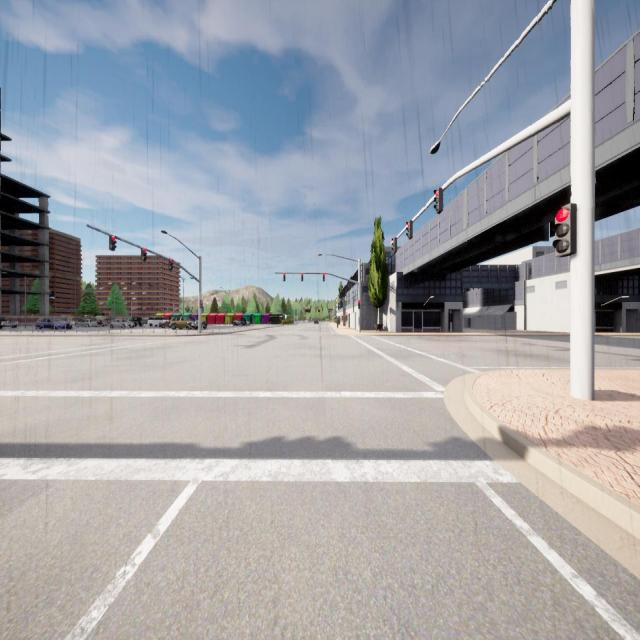Pedestrian: (336, 317, 339, 329)
Vehicle: (35, 316, 72, 330), (75, 316, 99, 329), (170, 316, 191, 330), (110, 318, 134, 329), (148, 317, 169, 329), (0, 316, 17, 329), (192, 320, 208, 329), (128, 317, 142, 327), (232, 318, 246, 326), (314, 320, 319, 325), (246, 320, 250, 326)
traffic_light: (552, 203, 576, 257), (434, 188, 444, 214), (406, 220, 413, 240), (109, 235, 117, 251), (392, 237, 397, 253), (141, 248, 147, 261), (168, 259, 174, 270), (200, 300, 203, 308), (283, 272, 285, 282), (301, 272, 303, 282), (323, 272, 325, 282), (358, 300, 360, 309)
